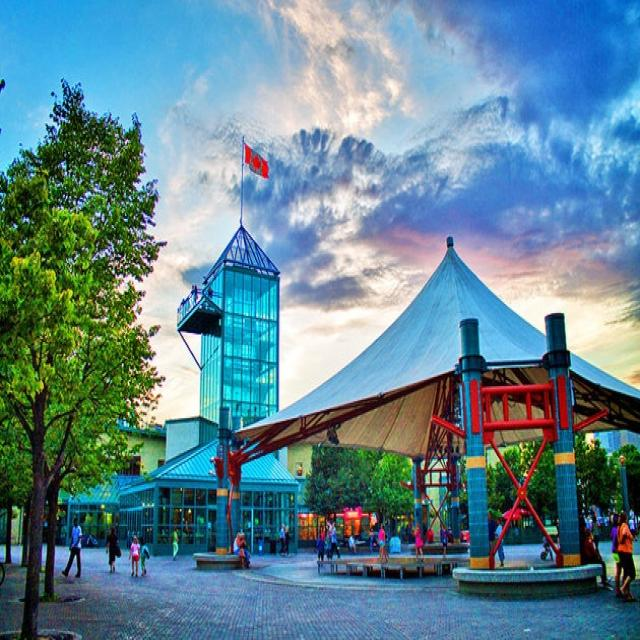body: (616, 511, 637, 603), (582, 529, 611, 587), (60, 514, 84, 582), (610, 512, 624, 599), (183, 504, 208, 546), (104, 524, 122, 574), (232, 529, 252, 569), (126, 532, 141, 578), (493, 514, 505, 568), (138, 536, 152, 578), (245, 504, 259, 542), (590, 509, 602, 552), (412, 518, 424, 560), (395, 521, 412, 546), (486, 508, 496, 550), (329, 520, 340, 558), (170, 526, 180, 562), (377, 522, 386, 562), (440, 521, 449, 561), (317, 523, 326, 561), (627, 512, 637, 543), (278, 521, 286, 558), (316, 534, 326, 562), (584, 512, 592, 544), (424, 524, 434, 549), (602, 509, 612, 534), (348, 529, 357, 555), (284, 528, 292, 556), (323, 527, 330, 558), (367, 521, 373, 555), (59, 523, 67, 547), (262, 525, 272, 541)
